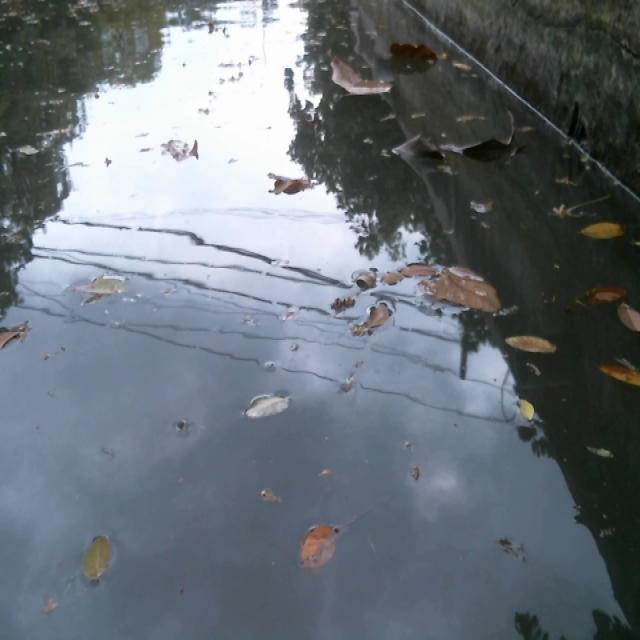Big-leaf: (398, 241, 505, 318), (326, 47, 394, 112), (442, 116, 525, 166), (394, 32, 446, 70), (386, 133, 450, 160)
Small-leaf: (234, 378, 295, 437), (74, 269, 135, 313), (299, 514, 342, 576), (79, 529, 116, 586), (267, 167, 314, 205), (0, 307, 35, 354), (598, 353, 640, 391), (503, 330, 558, 359), (582, 276, 625, 312), (158, 135, 202, 167), (579, 217, 628, 243), (358, 297, 391, 334), (515, 390, 538, 427), (617, 301, 640, 336), (329, 289, 358, 314), (353, 269, 380, 291), (452, 55, 476, 78)
